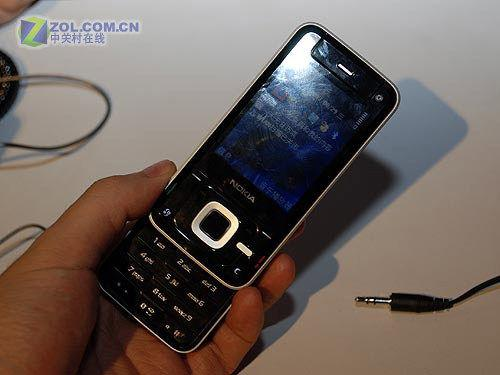phone: (99, 22, 395, 350)
